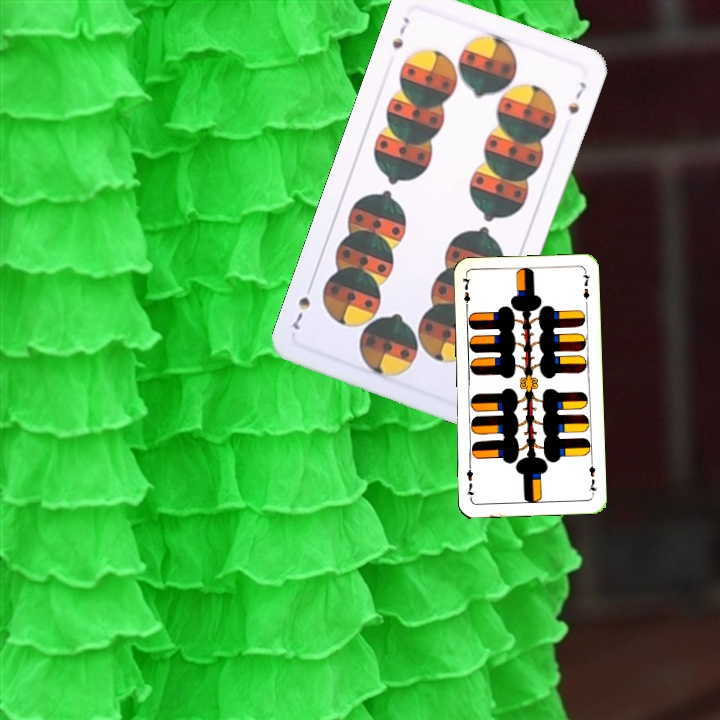E7: (585, 457, 599, 497), (459, 273, 473, 313)
S7: (388, 13, 412, 52)
